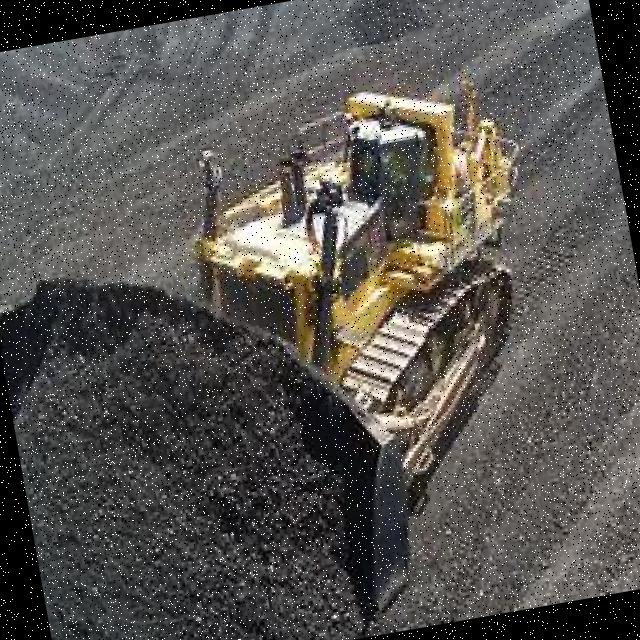Bulldozer: (14, 32, 619, 640)
